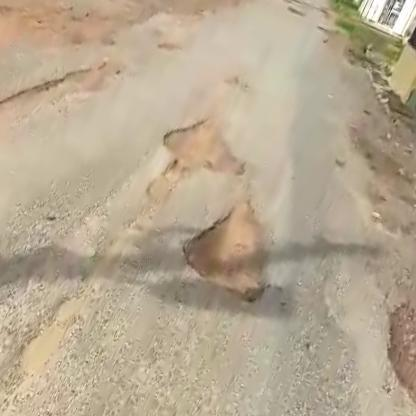pothole: (167, 189, 295, 311), (344, 281, 416, 416), (158, 102, 261, 184)
